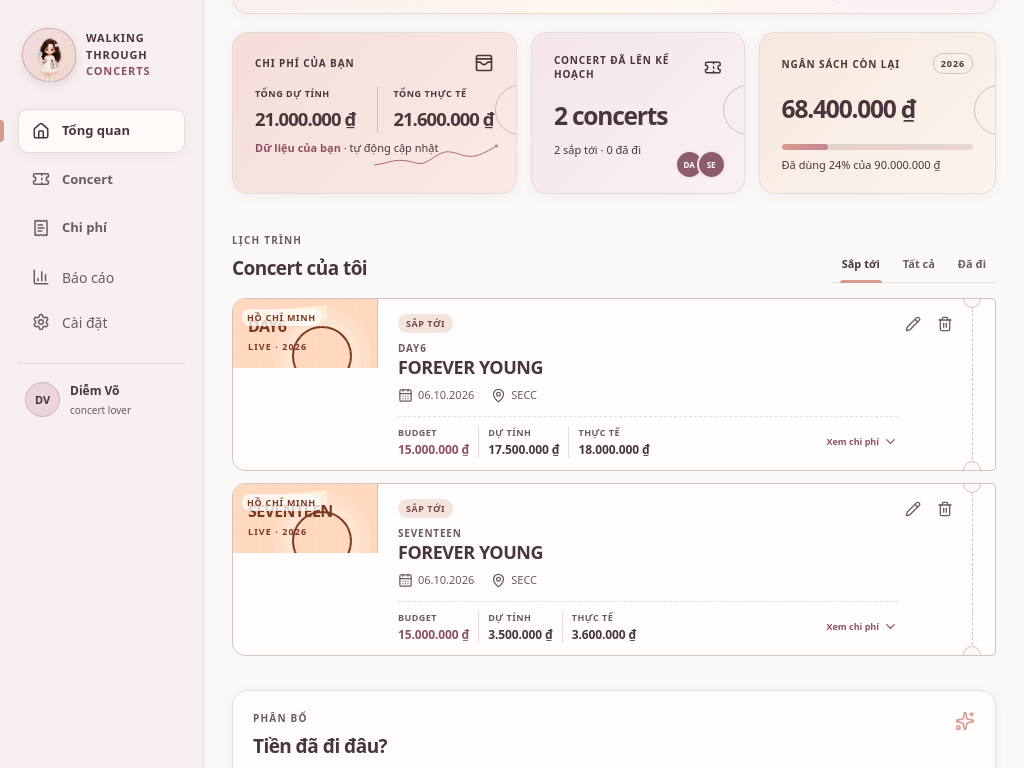
Scenario: export expenses from a concert › disables export while preparing the file and makes it available again afterward
(page scrolled)
Click the button with aria-label "Xem chi phí DAY6".
click(306, 333)  # box [233, 299, 972, 470]
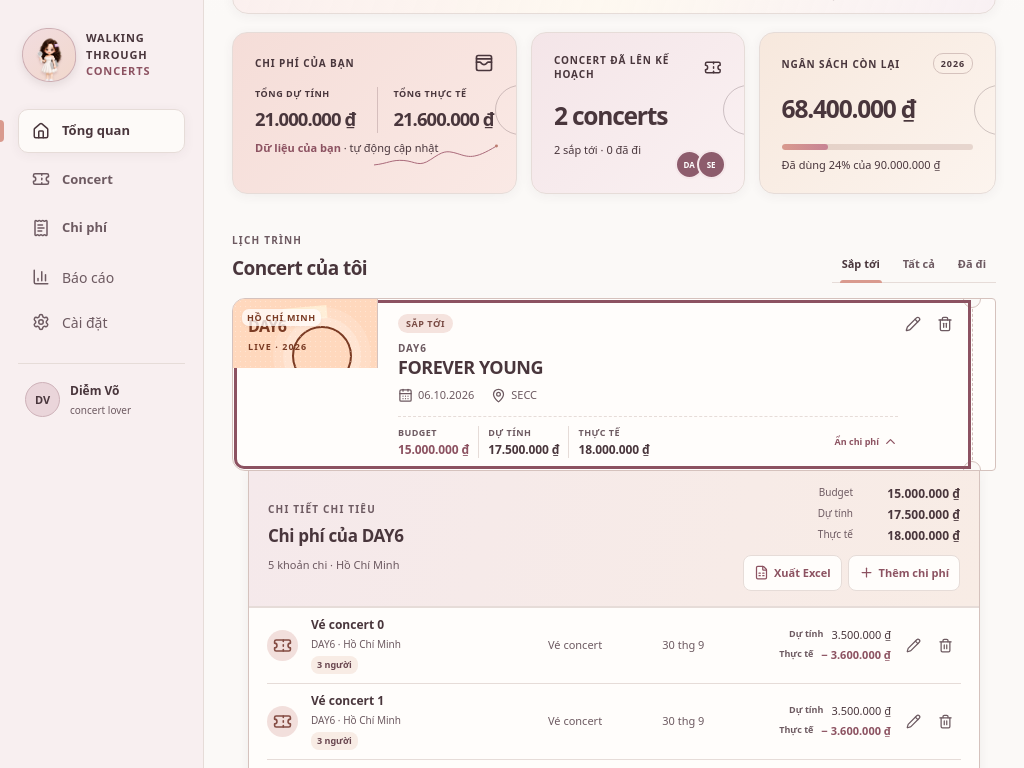
Click the button with aria-label "Xuất Excel chi phí DAY6".
click(792, 573)  # box [743, 555, 842, 591]
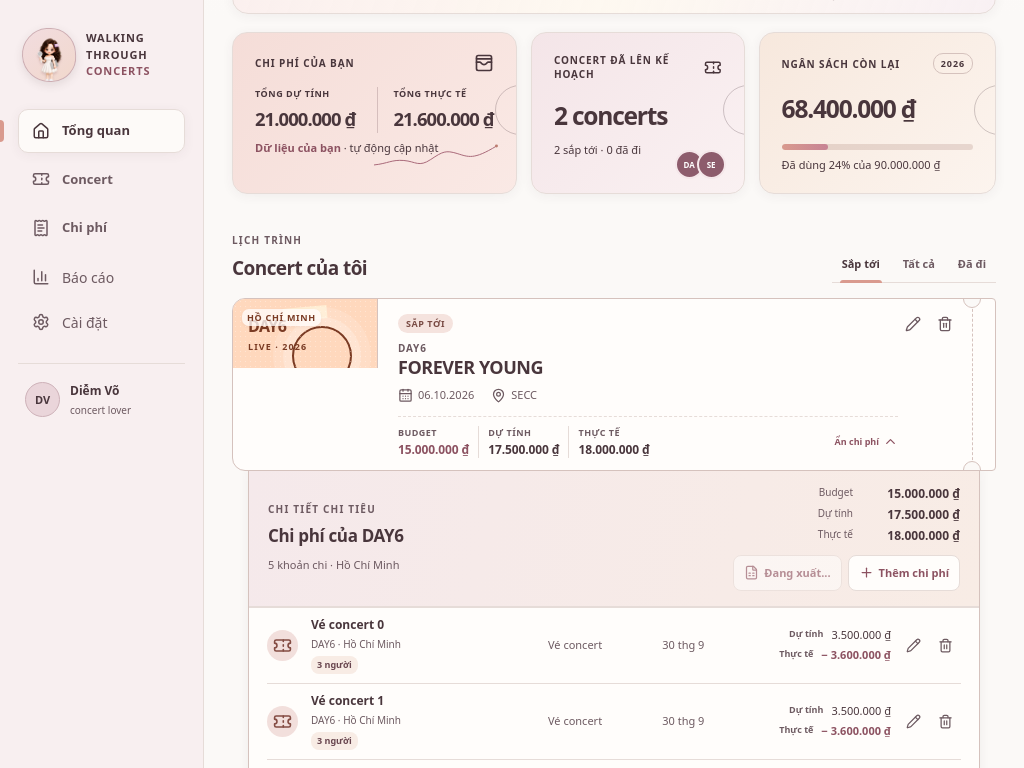
Check: the button with aria-label "Xuất Excel chi phí DAY6" is disabled
Check: the button with aria-label "Xuất Excel chi phí DAY6" reads "Đang xuất..."
Click the button with aria-label "Xuất Excel chi phí DAY6".
click(787, 573)  # box [733, 555, 842, 591]
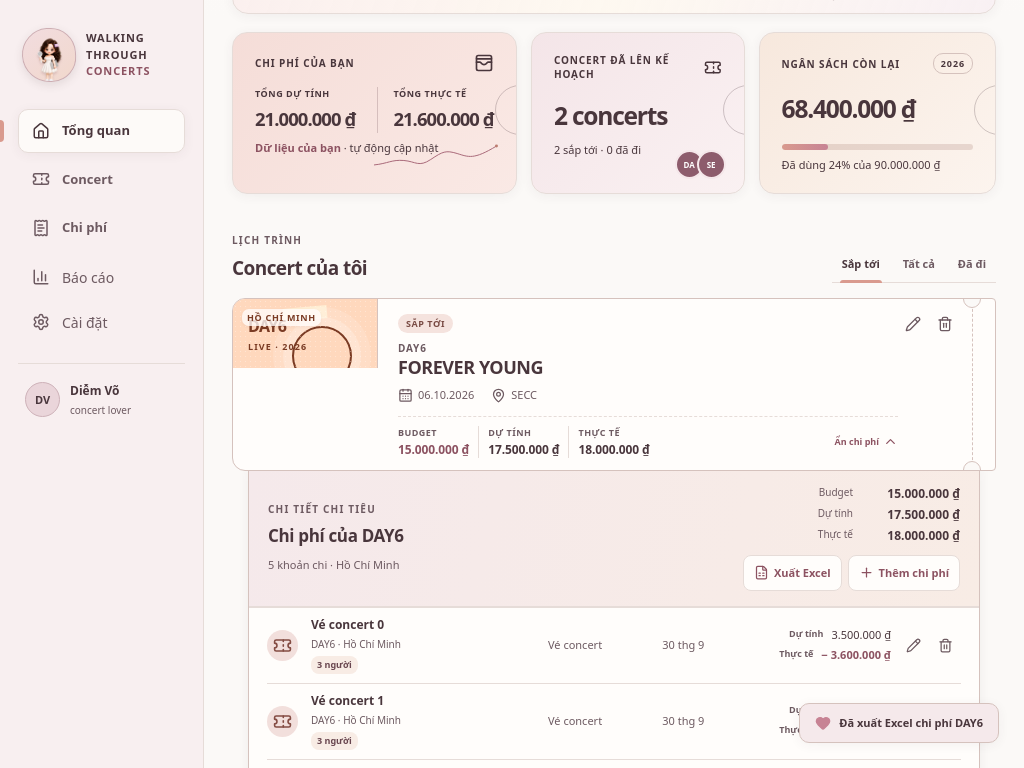
Check: the button with aria-label "Xuất Excel chi phí DAY6" is enabled, box [743, 555, 842, 591]
Check: the button with aria-label "Xuất Excel chi phí DAY6" reads "Xuất Excel", box [743, 555, 842, 591]
